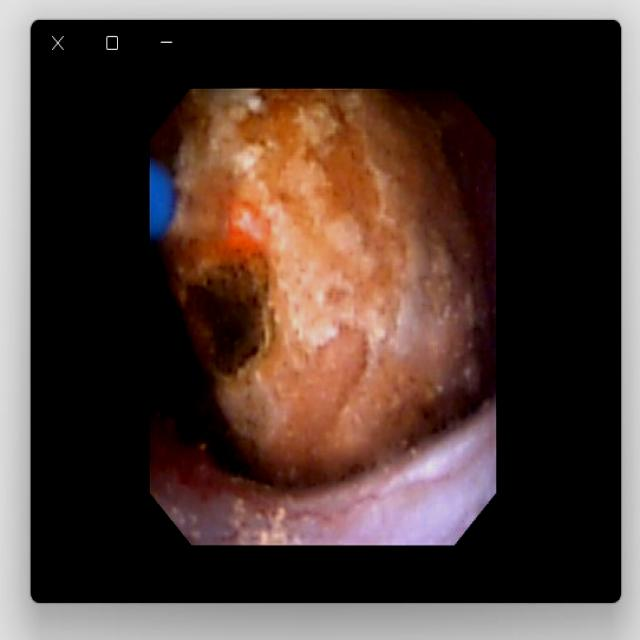fiber: (154, 163, 172, 234)
stone: (155, 92, 491, 482)
